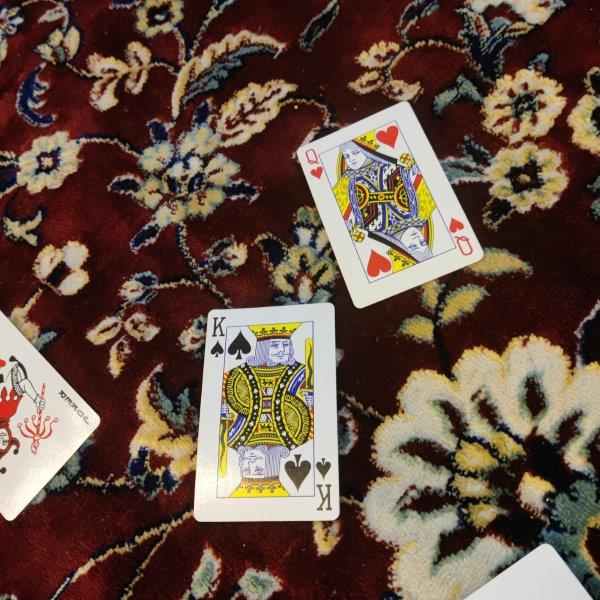Joker: (1, 310, 101, 521)
King of Spades: (193, 302, 342, 523)
Queen of Hearts: (296, 101, 486, 309)
